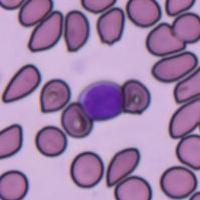L: (77, 80, 124, 121)
